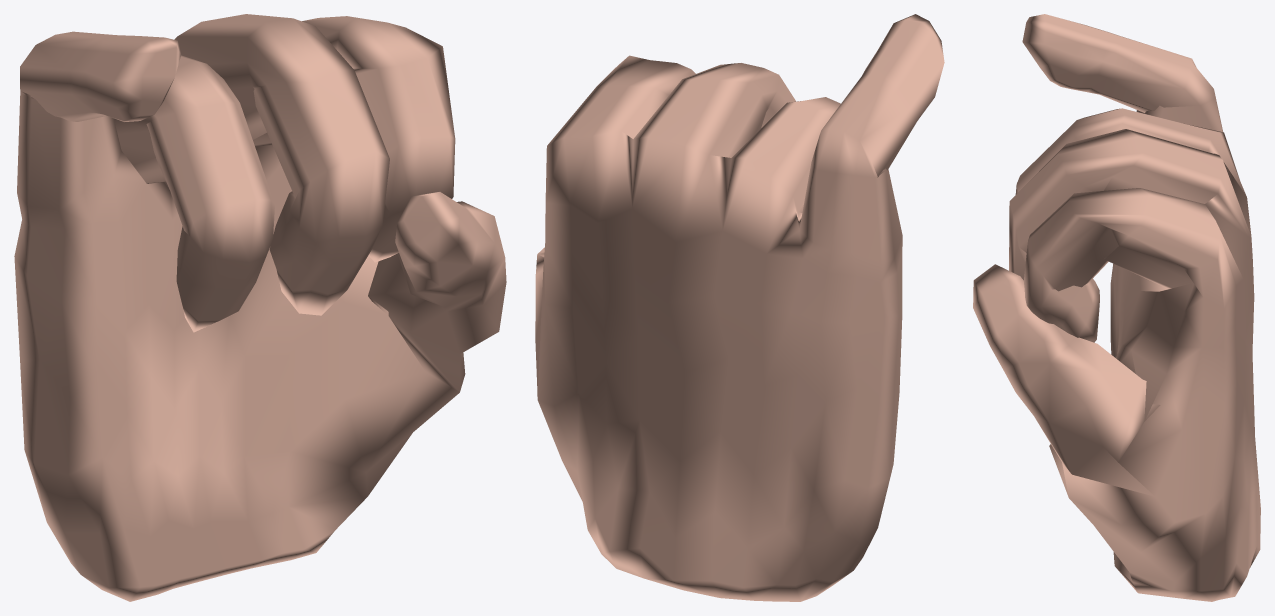
Rendered from MAO_3_PARA_FRENTE.obj.
The picture shows the model from 3 angles, left to right: view 1: azimuth 30°, elevation 25°; view 2: azimuth 150°, elevation 25°; view 3: azimuth 270°, elevation 25°; orthographic projection. The views are drawn at different scales.
Visible parts, largest first — view 1: mao_dir:mao_dir; view 2: mao_dir:mao_dir; view 3: mao_dir:mao_dir.
Boxes of the visible parts, <box> form: mao_dir:mao_dir: <box>14,14,506,601</box>; mao_dir:mao_dir: <box>535,14,944,601</box>; mao_dir:mao_dir: <box>973,14,1260,601</box>.
Bounding box in the file's own units: 137 × 177 × 93.73.
